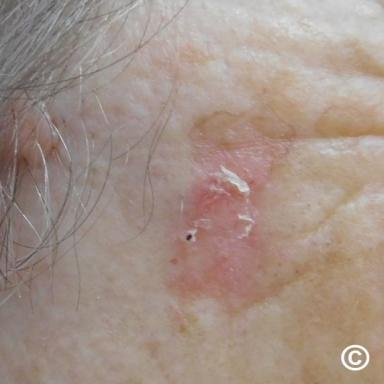Porokeratosis: (171, 111, 295, 305), (2, 90, 58, 172)
